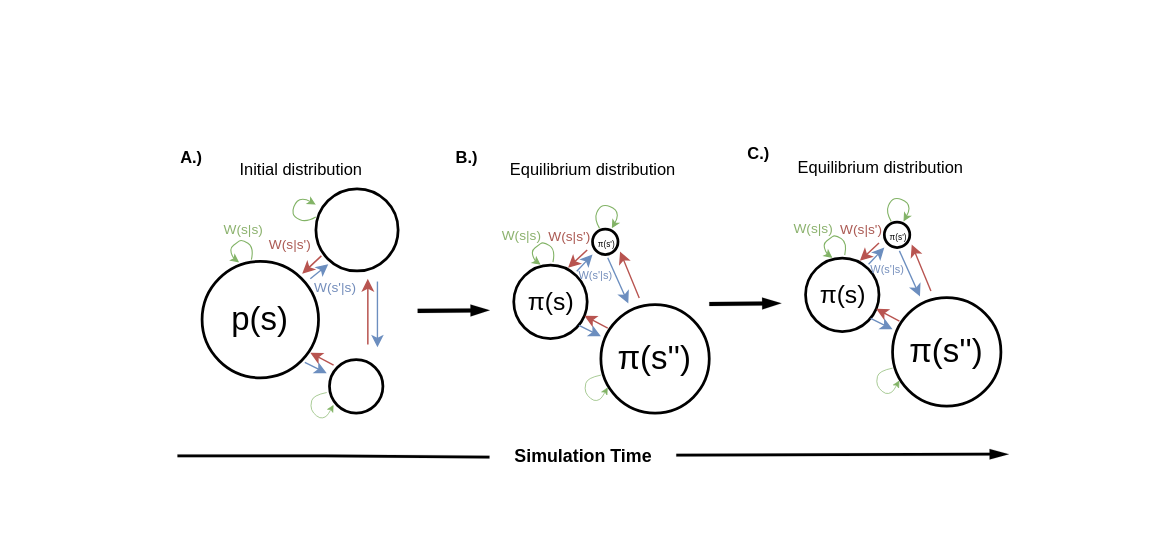
Some shapes in this 1166 by 536 pixel diagram are drawn without their labels. Here are the shapes that lost their labels. From the top down, the box of each, then its label:
(296, 169, 416, 289): p(s')
(327, 358, 384, 414): p(s'')
